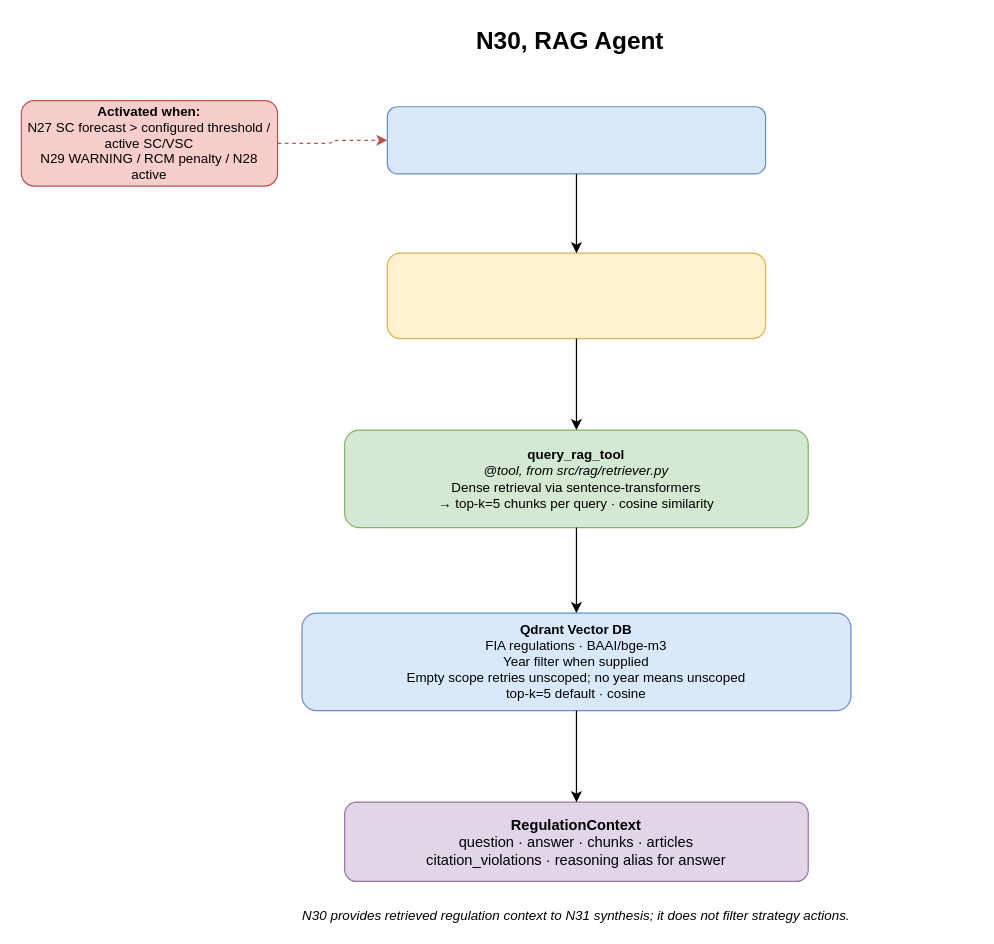
Image size: 994x944. Some labels were removed from this diagram. Each missing label, with the centre of its shape:
"Input, question (natural language) From N31 Orchestrator" belongs at (576,140).
"LangGraph ReAct Agent Local/Cloud LLM Multi-query retrieval loop" belongs at (576,295).
